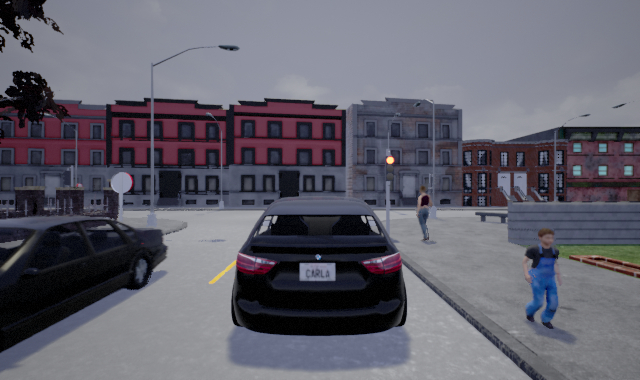pedestrian: (521, 226, 560, 328), (414, 186, 430, 242)
traffic_light: (384, 155, 395, 182)
vehicle: (232, 196, 408, 335), (1, 213, 169, 350)
